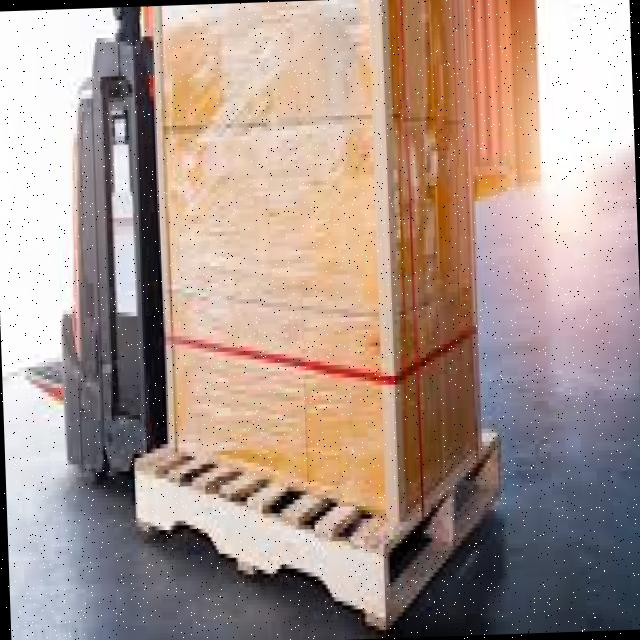Wooden-Pallets: (125, 409, 509, 634)
